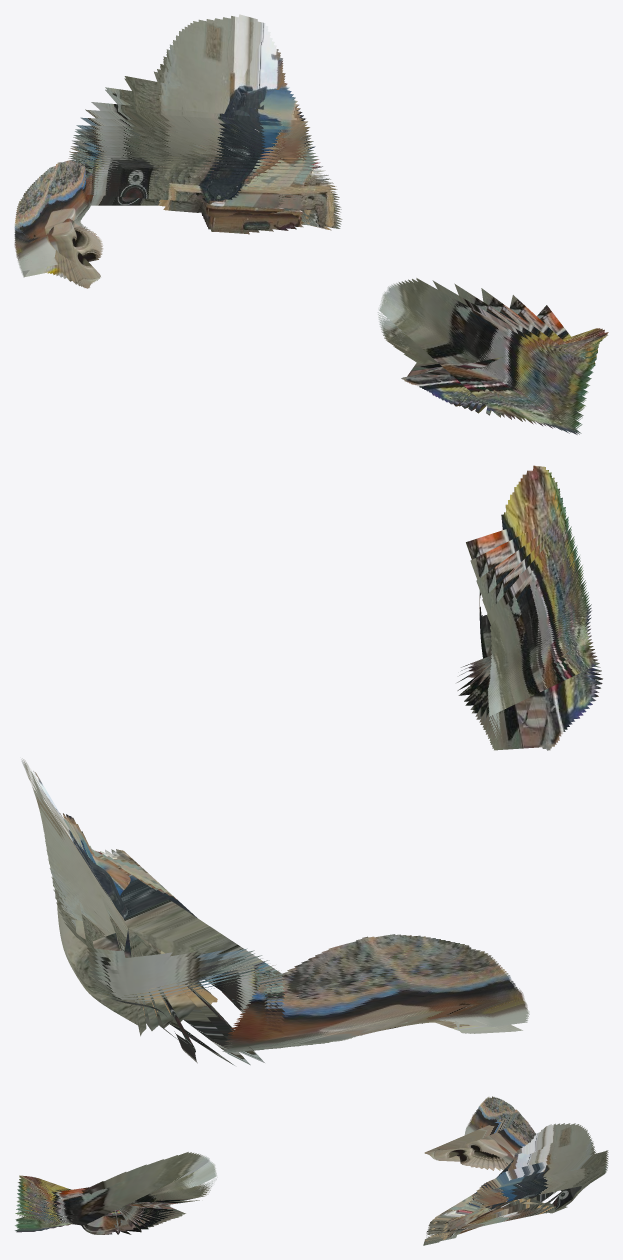
File: art_studio.glb
3 renders of one model, top to bottom at view 1: azimuth 30°, elevation 25°; view 2: azimuth 150°, elevation 25°; view 3: azimuth 270°, elevation 25°, orthographic. The views are drawn at different scales.
Parts seen in each view (by area): view 1: furniture_00, furniture_02, furniture_01; view 2: furniture_00, furniture_02, furniture_01; view 3: furniture_02, furniture_00, furniture_01.
Boxes of the visible parts, x1,y1,x2,y2 form: furniture_00: [68, 14, 342, 234]; furniture_02: [377, 278, 608, 434]; furniture_01: [14, 160, 103, 288]; furniture_00: [20, 757, 285, 1065]; furniture_02: [457, 465, 602, 750]; furniture_01: [222, 934, 529, 1052]; furniture_02: [15, 1152, 217, 1234]; furniture_00: [423, 1123, 608, 1245]; furniture_01: [424, 1096, 535, 1170].
Bounding box in the file's own units: 3.05 × 1.51 × 6.96.
Materials: 3 (3 with a texture image).
